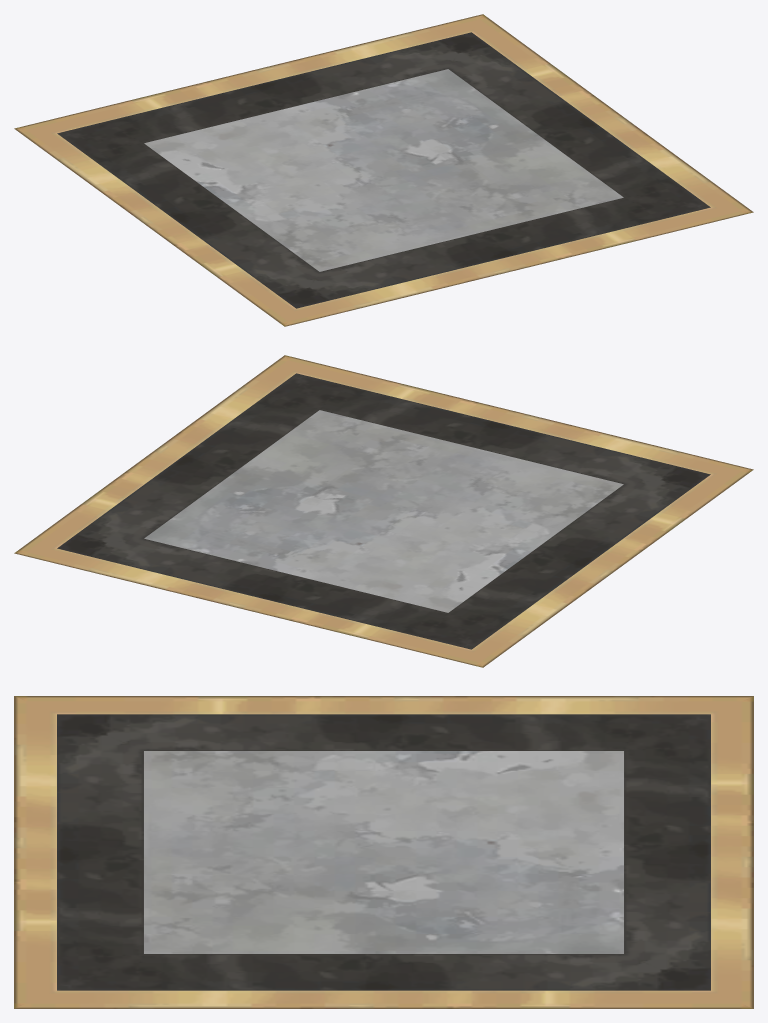
The model's file is my_shoppingmall_01_carpet_01.glb.
3 views of the same model, one above another, from view 1: azimuth 30°, elevation 25°; view 2: azimuth 150°, elevation 25°; view 3: azimuth 270°, elevation 25° (orthographic). The views are drawn at different scales.
Parts seen in each view (by area): view 1: my_shoppingmall_01_carpet_01; view 2: my_shoppingmall_01_carpet_01; view 3: my_shoppingmall_01_carpet_01.
Boxes of the visible parts, <box> form: my_shoppingmall_01_carpet_01: <box>14,14,753,326</box>; my_shoppingmall_01_carpet_01: <box>14,355,753,667</box>; my_shoppingmall_01_carpet_01: <box>14,696,753,1008</box>.
Size of the model in its own units: 0.0119 by 0 by 0.0119.
Materials: 1 (1 with a texture image).
